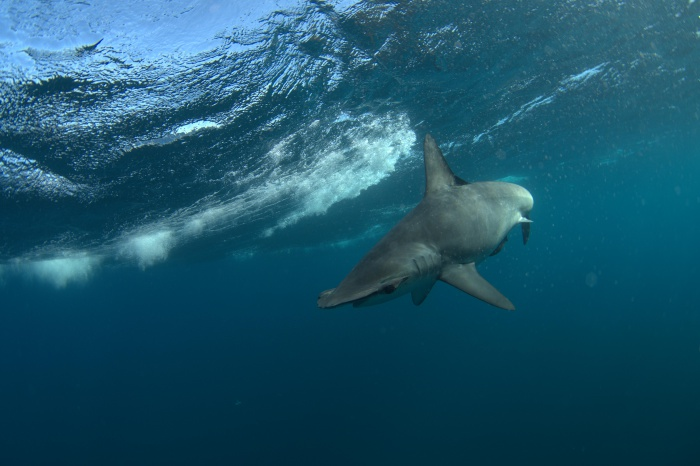Hammer: (312, 119, 547, 327)
